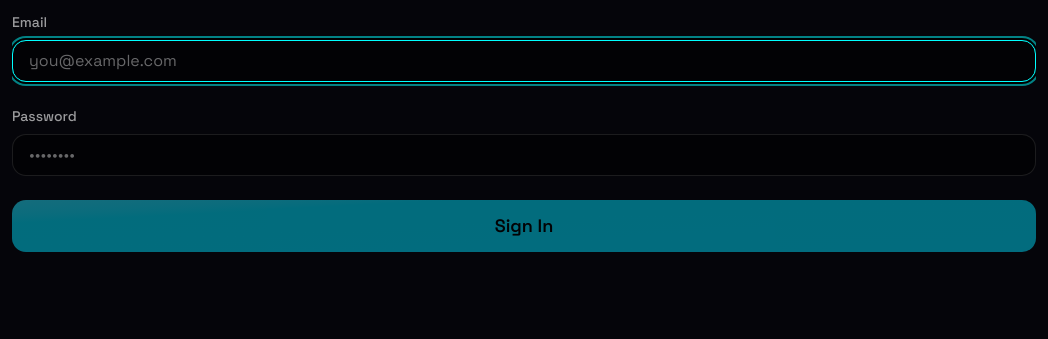
Test: LoginForm › should show error message on 401 (invalid credentials)
The image size is (1048, 339).
Type "test@example.com" into the field with placeholder "you@example.com" at (524, 61), box [12,40,1036,82]
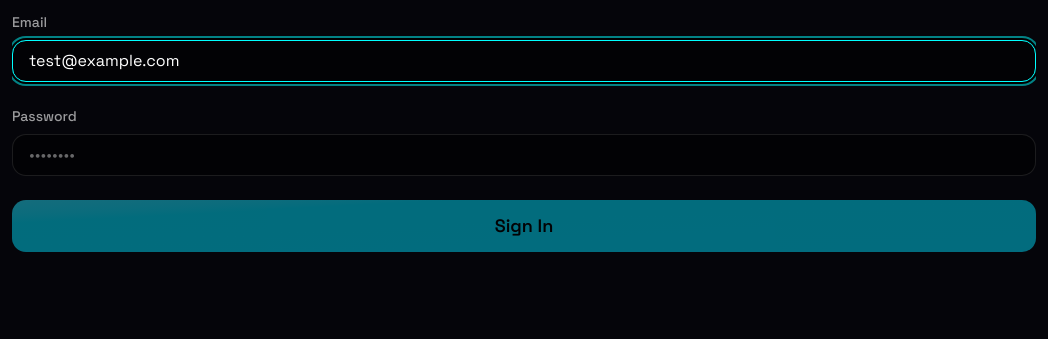
Type "wrongpassword" into the password field with placeholder "••••••••" at (524, 155), box [12,134,1036,176]
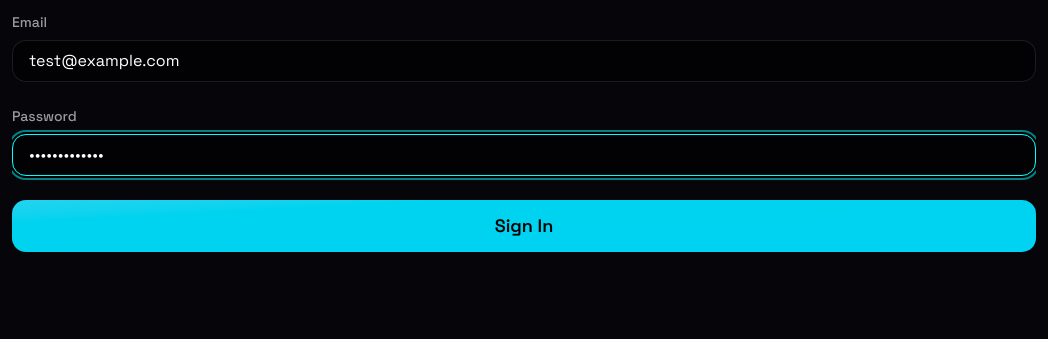
Click the button "Sign In" at (524, 226), box [12,200,1036,252]
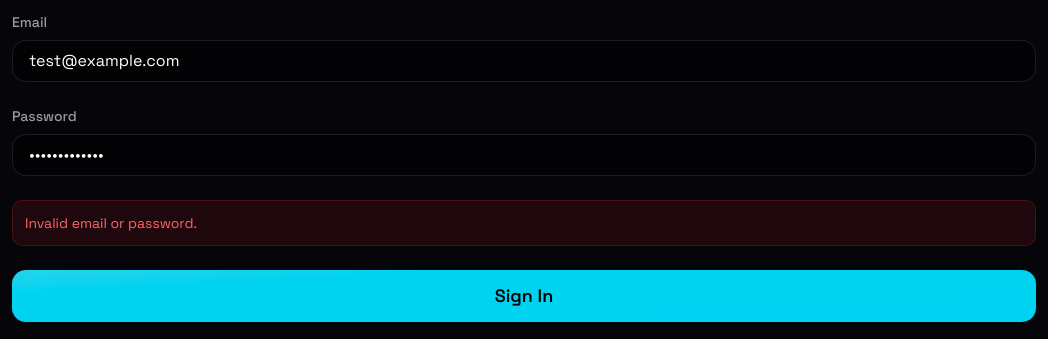
Expected: the text "Invalid email or password." is shown, [12,200,1036,246]
